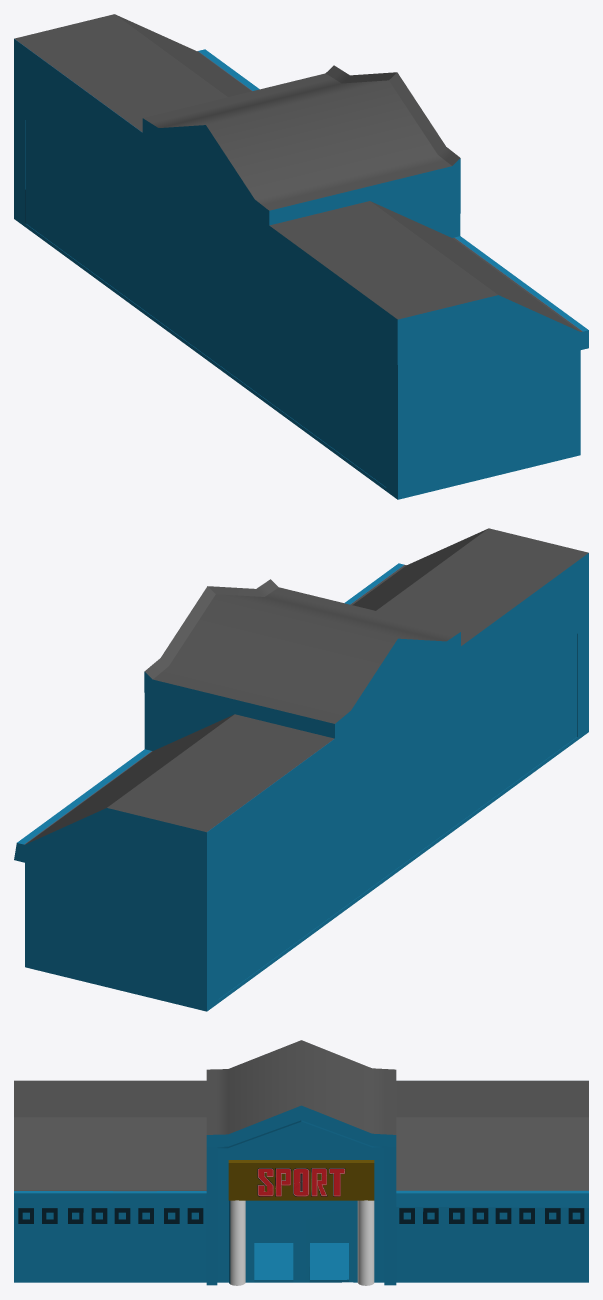
The model's file is SportCenter.fbx.
3 renders of one model, top to bottom at view 1: azimuth 30°, elevation 25°; view 2: azimuth 150°, elevation 25°; view 3: azimuth 270°, elevation 25°, orthographic. The views are drawn at different scales.
Visible parts, largest first — view 1: polySurface3, pCube32; view 2: polySurface3, pCube32; view 3: polySurface3, polySurface12.
Boxes of the visible parts, <box> form: polySurface3: <box>14,14,588,499</box>; pCube32: <box>26,120,386,486</box>; polySurface3: <box>14,528,588,1011</box>; pCube32: <box>218,634,576,998</box>; polySurface3: <box>14,1040,588,1285</box>; polySurface12: <box>228,1160,374,1200</box>.
Size of the model in its own units: 19.68 by 23.35 by 67.45.
